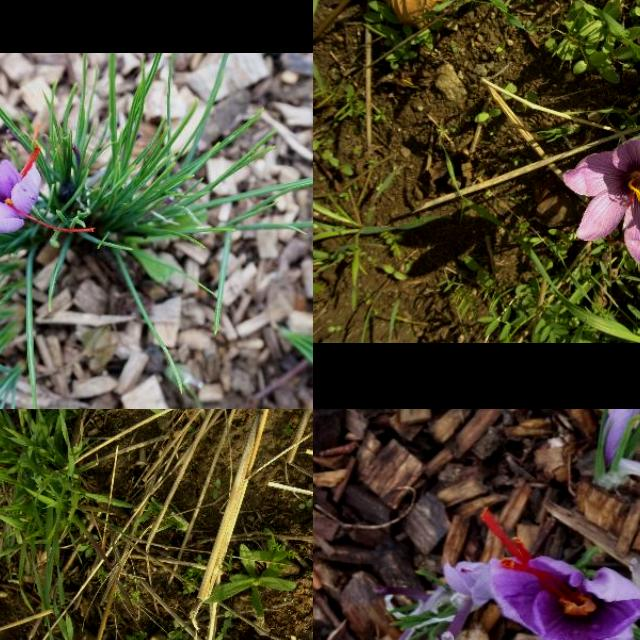flower: (463, 506, 640, 640), (0, 123, 95, 234), (562, 141, 640, 275), (602, 409, 640, 460)
